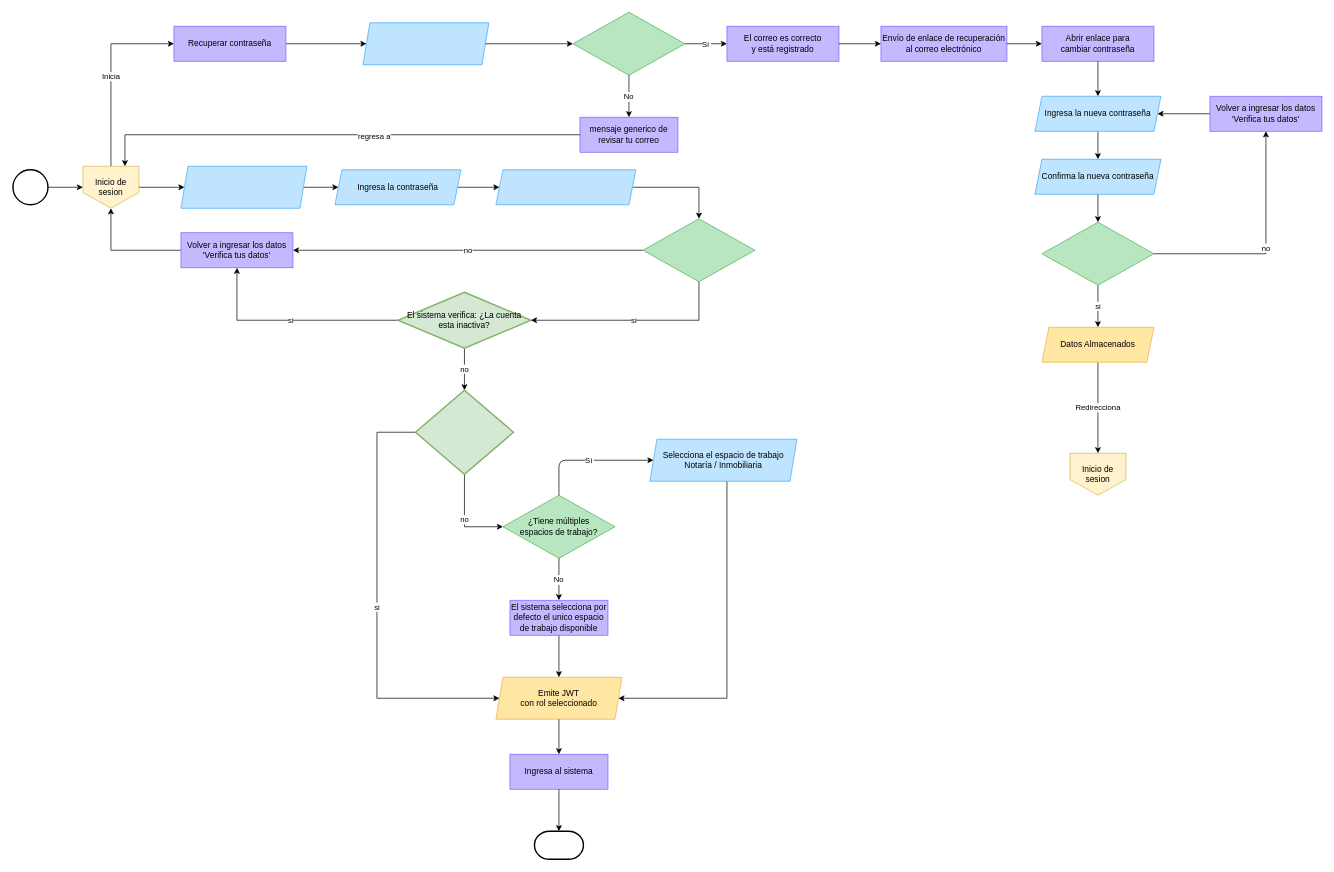
Some shapes in this 1334 by 872 pixel diagram are drawn without their labels. Each missing label, with the centre of its shape:
"Fin" goes at [558,845].
"Ingresa correo electrónico o nickName" goes at [243,187].
"Ingresa el correo electrónico/nickName para recuperar contraseña" goes at [425,43].
"inicio" goes at [30,187].
"selecciona(check) aviso de privacidad" goes at [565,187].
"¿El correo está registrado?" goes at [628,43].
"¿Es superadmin?" goes at [464,432].
"¿Los datos coinciden?" goes at [1097,253].
"¿Los datos son correctos?" goes at [698,250].
